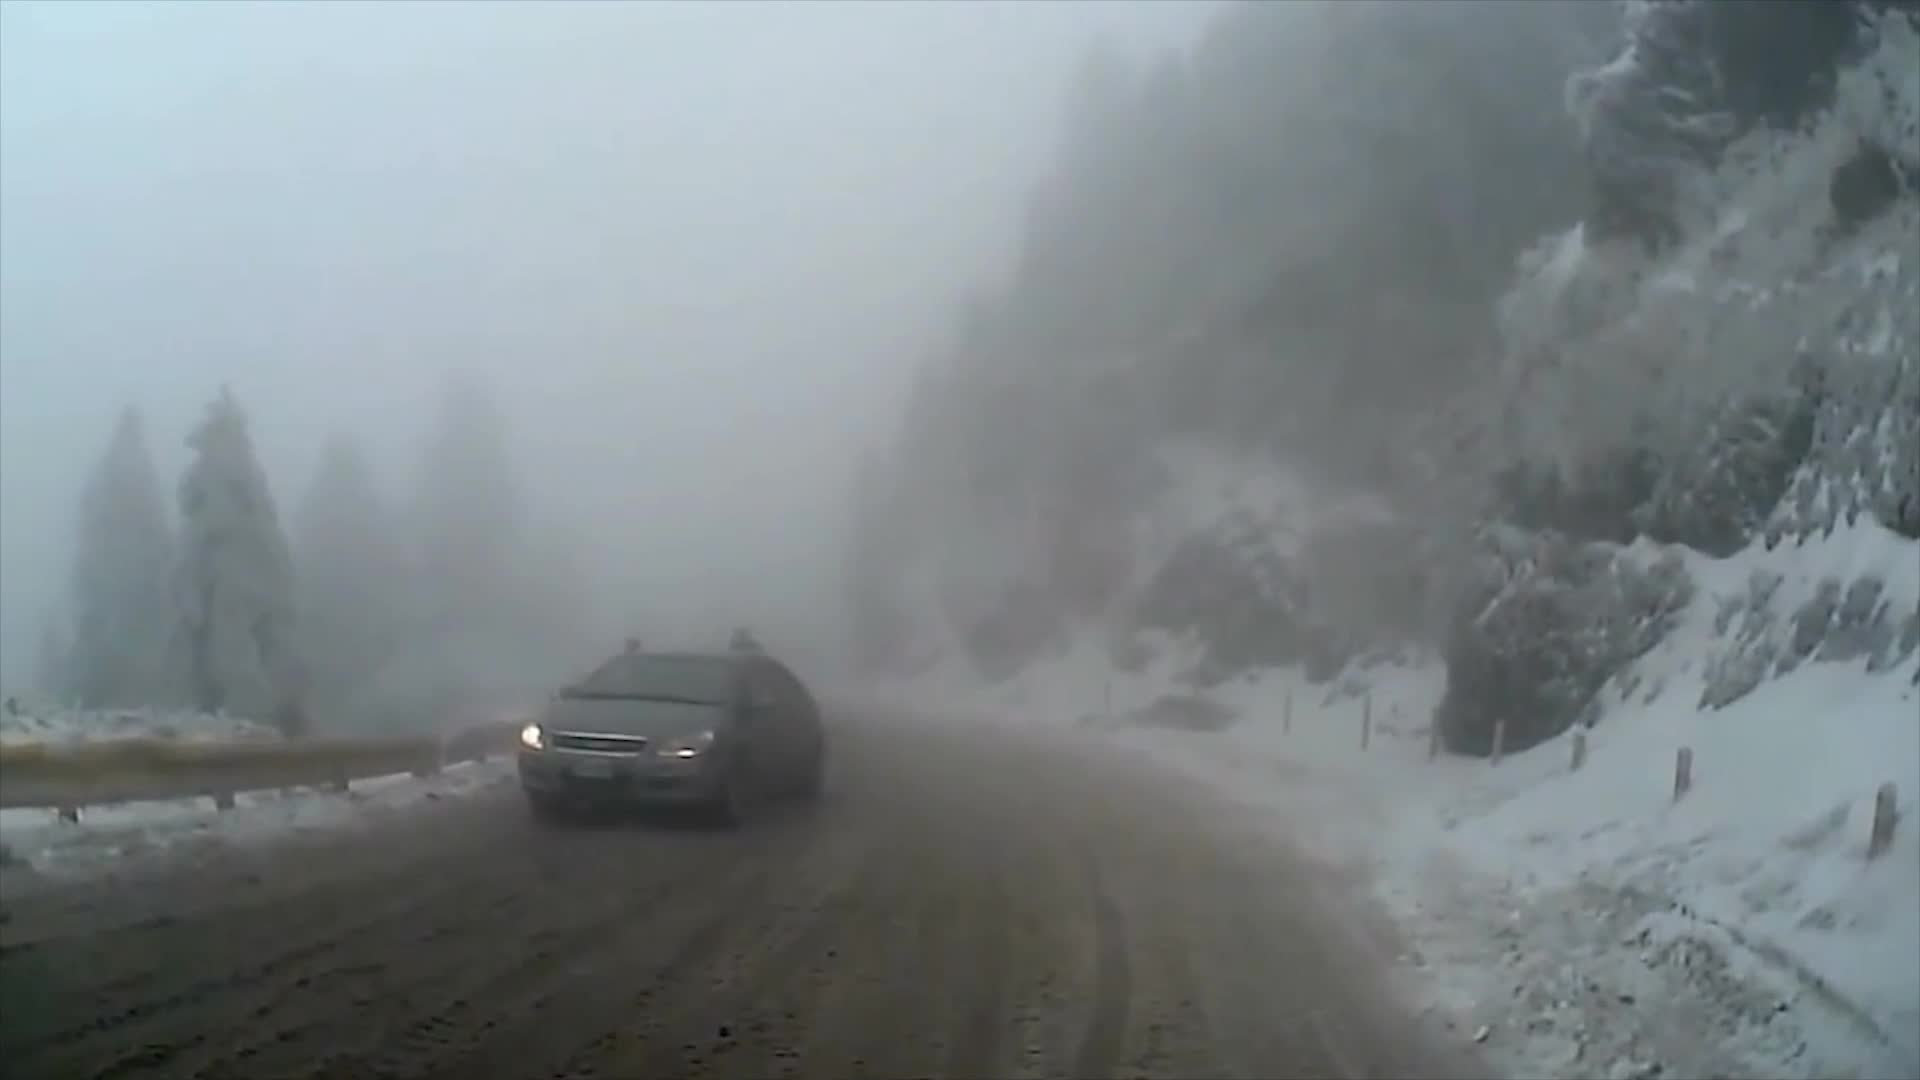vehicle: (516, 645, 825, 831)
